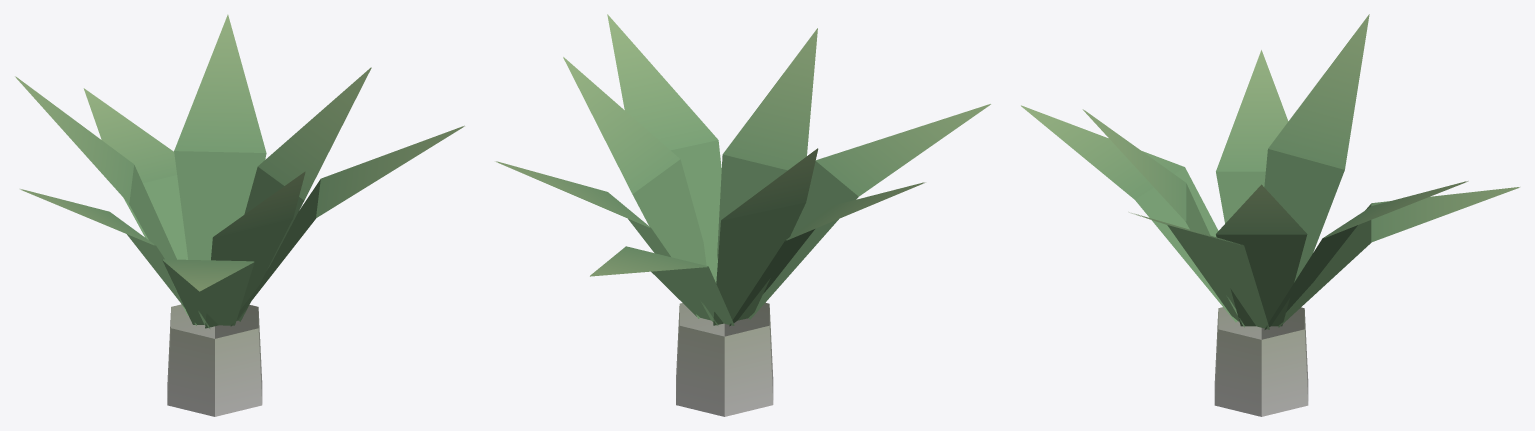
Rendered from daikon.glb.
3 views of the same model, side by side, from view 1: azimuth 30°, elevation 25°; view 2: azimuth 150°, elevation 25°; view 3: azimuth 270°, elevation 25° (orthographic). The views are drawn at different scales.
Visible parts, largest first — view 1: Static; view 2: Static; view 3: Static.
Part boxes in pixels (left/top/right/bottom): Static: left=15, top=14, right=464, bottom=416; Static: left=495, top=14, right=990, bottom=416; Static: left=1021, top=14, right=1519, bottom=416.
Size of the model in its own units: 0.5192 by 0.4113 by 0.6018.
